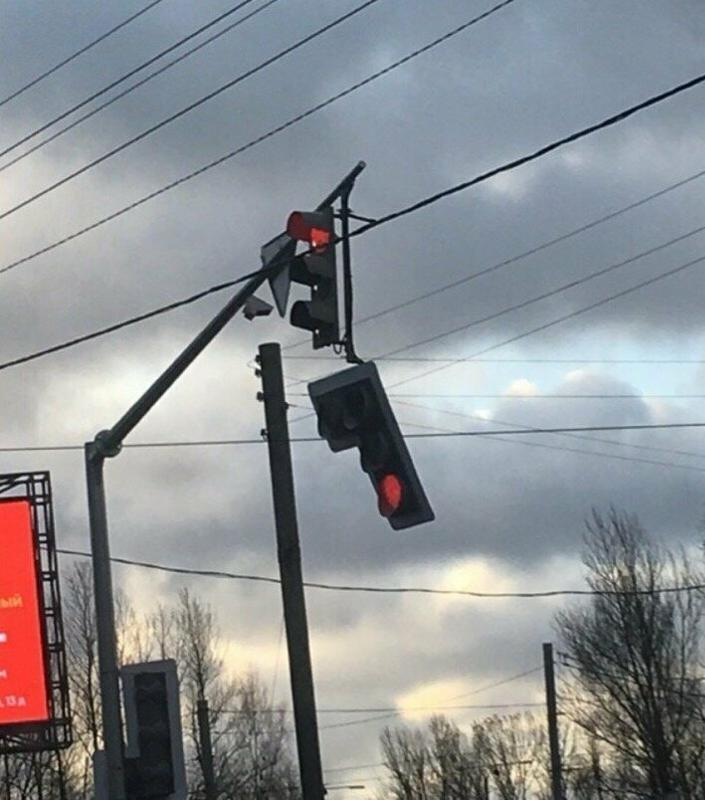off traffic light: (313, 377, 423, 521), (120, 671, 175, 797)
traffic light: (286, 209, 340, 350)
